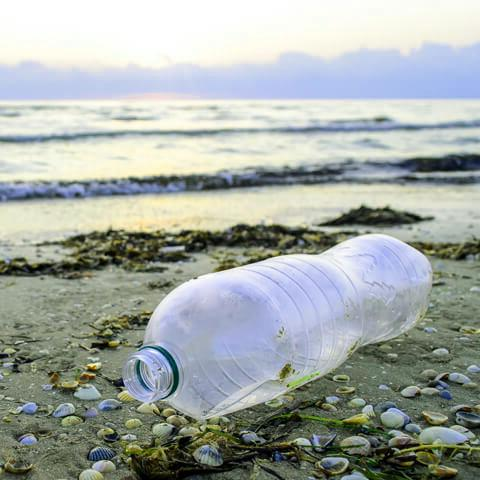Plastic: (116, 229, 435, 417)
